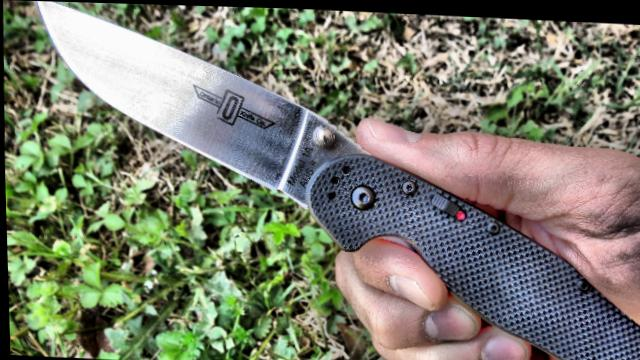knife: (0, 0, 482, 295)
